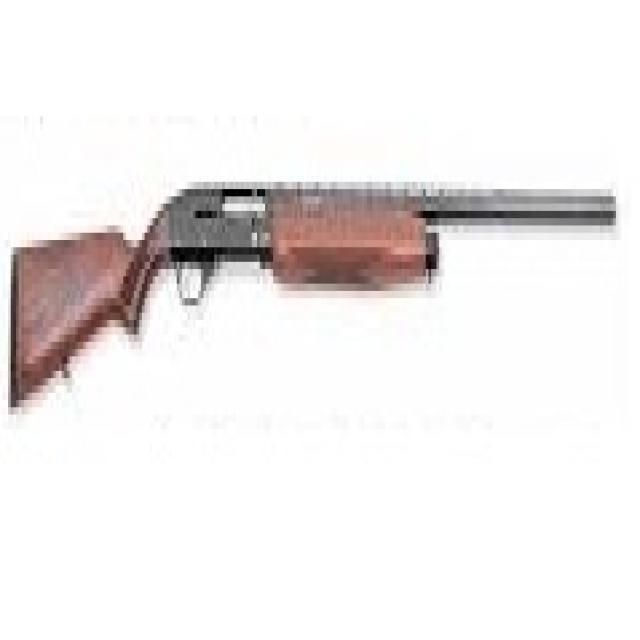rifle: (3, 177, 623, 431)
